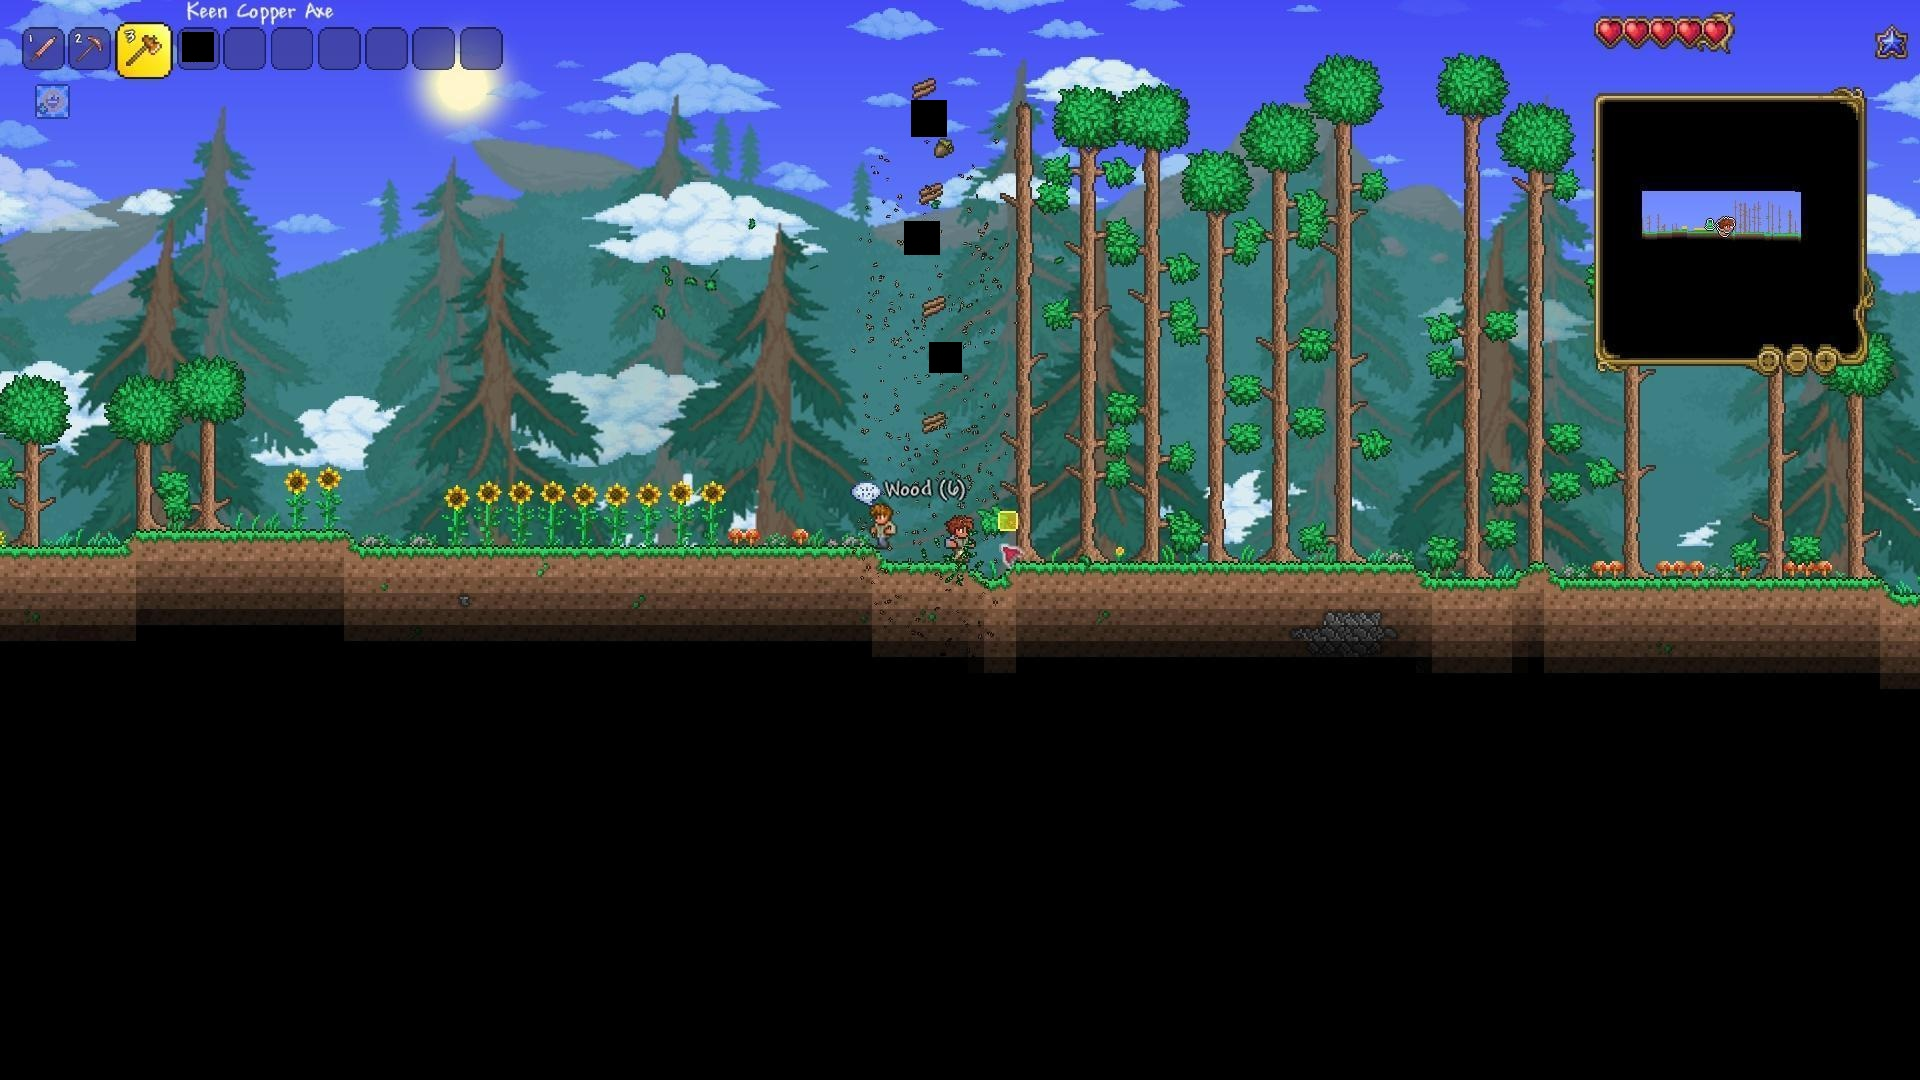wood: (906, 69, 942, 104), (916, 171, 945, 212), (919, 409, 951, 439), (919, 293, 951, 323)
